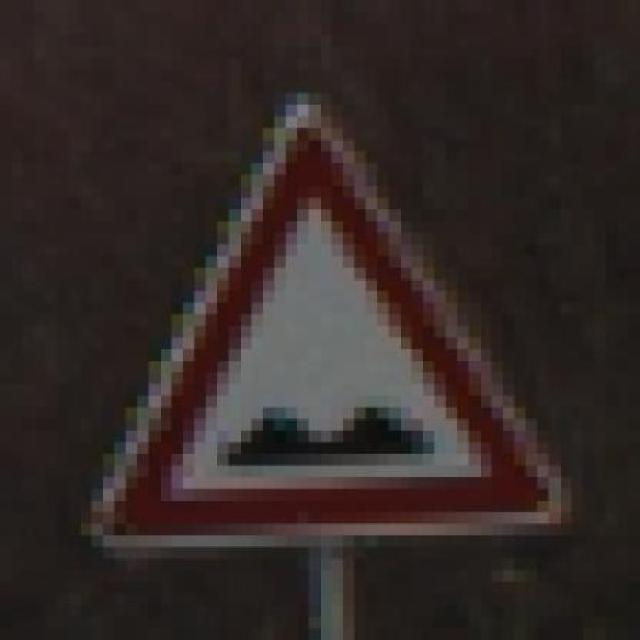Uneven Road: (94, 93, 574, 570)
